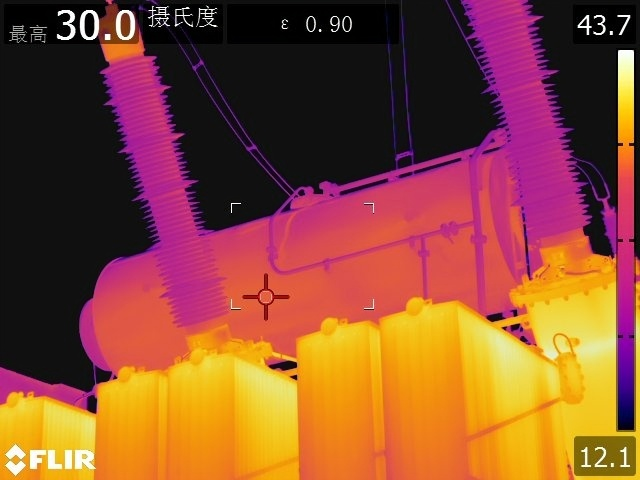oil conservator: (66, 129, 522, 383)
transformer: (1, 299, 593, 480)
tube: (95, 10, 231, 325), (452, 1, 595, 234)
